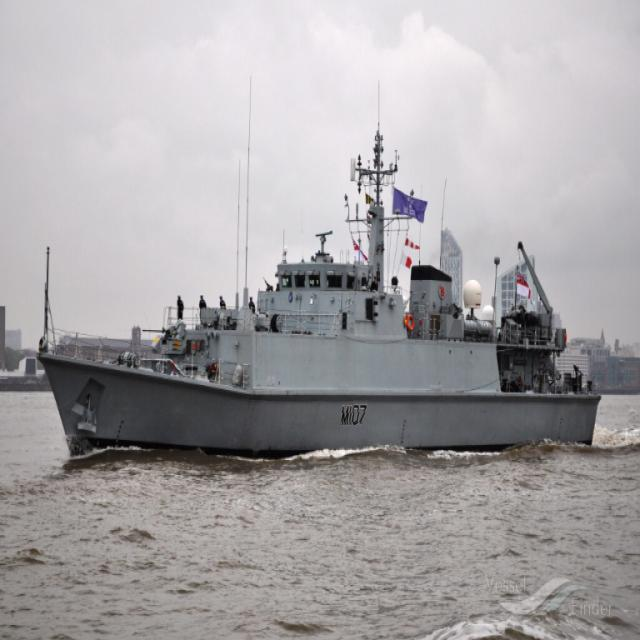OCR: (330, 398, 368, 446)
